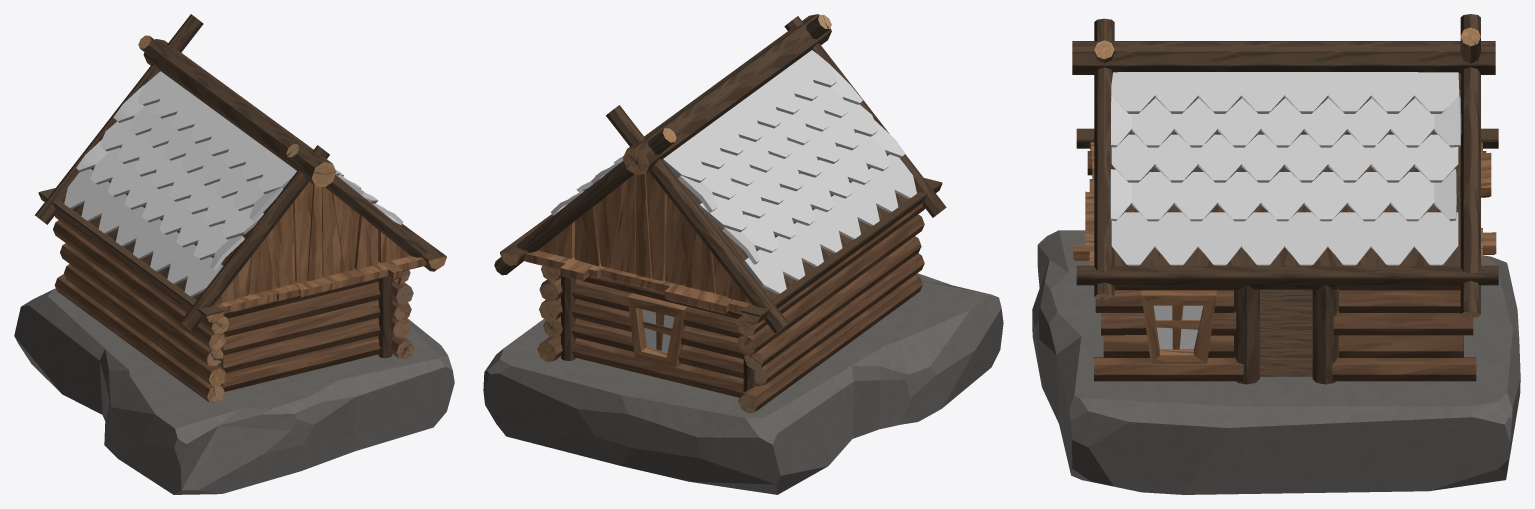
File: Cabin_Small.fbx
The picture shows the model from 3 angles, left to right: view 1: azimuth 30°, elevation 25°; view 2: azimuth 150°, elevation 25°; view 3: azimuth 270°, elevation 25°; orthographic projection. The views are drawn at different scales.
Parts seen in each view (by area): view 1: Cabin_Small; view 2: Cabin_Small; view 3: Cabin_Small.
Boxes of the visible parts, x1,y1,x2,y2 form: Cabin_Small: (14, 14, 454, 494); Cabin_Small: (483, 14, 1003, 494); Cabin_Small: (1032, 14, 1520, 494).
Size of the model in its own units: 881 by 867 by 959.
